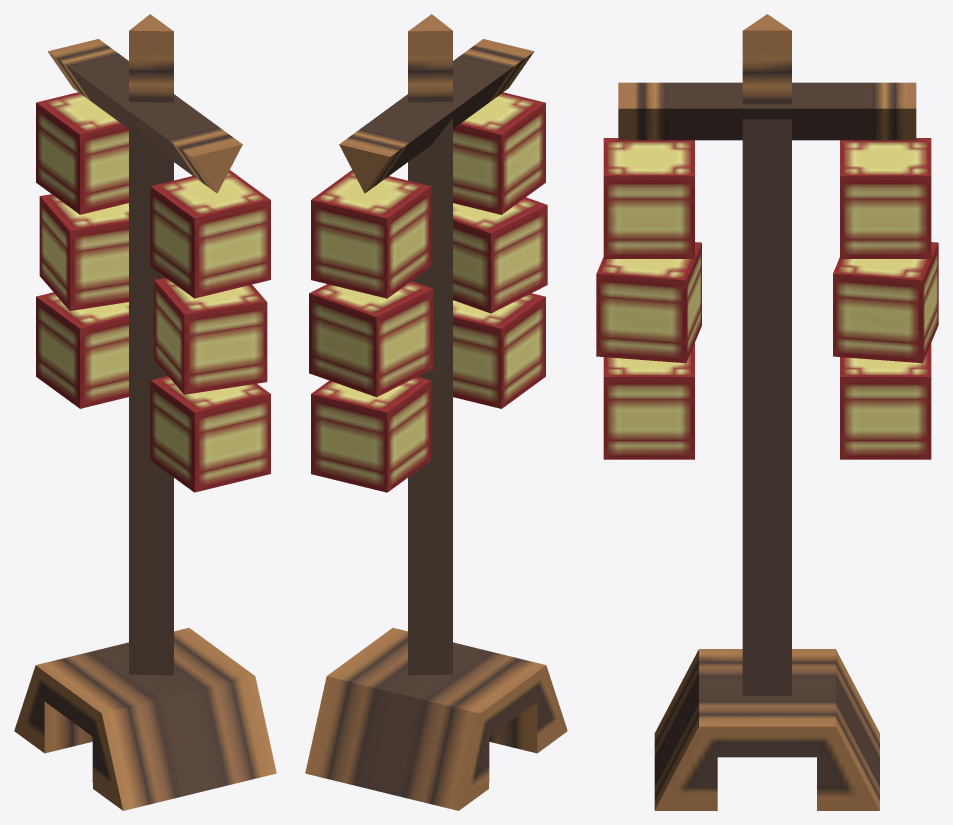
The model's file is QSMY_City_LuDeng.FBX.
The picture shows the model from 3 angles, left to right: view 1: azimuth 30°, elevation 25°; view 2: azimuth 150°, elevation 25°; view 3: azimuth 270°, elevation 25°; orthographic projection. The views are drawn at different scales.
Visible parts, largest first — view 1: Object45, Object31; view 2: Object45, Object31; view 3: Object31, Object45.
Boxes of the visible parts, <box> form: Object45: <box>36,92,270,492</box>; Object31: <box>14,14,276,810</box>; Object45: <box>309,92,547,492</box>; Object31: <box>305,14,567,810</box>; Object31: <box>618,14,916,810</box>; Object45: <box>596,138,938,459</box>.
Size of the model in its own units: 1.9 by 8.6 by 3.55.
